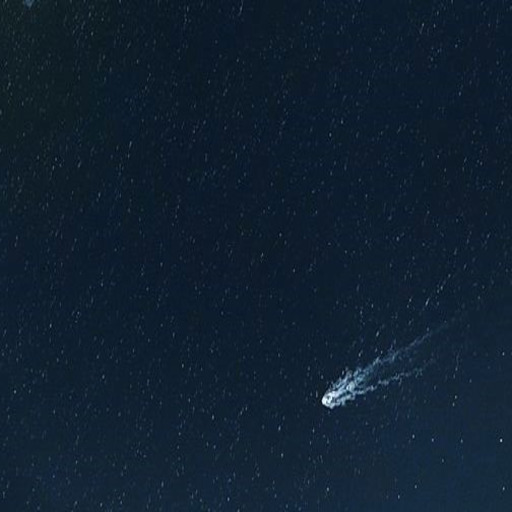ship: (319, 392, 338, 409)
